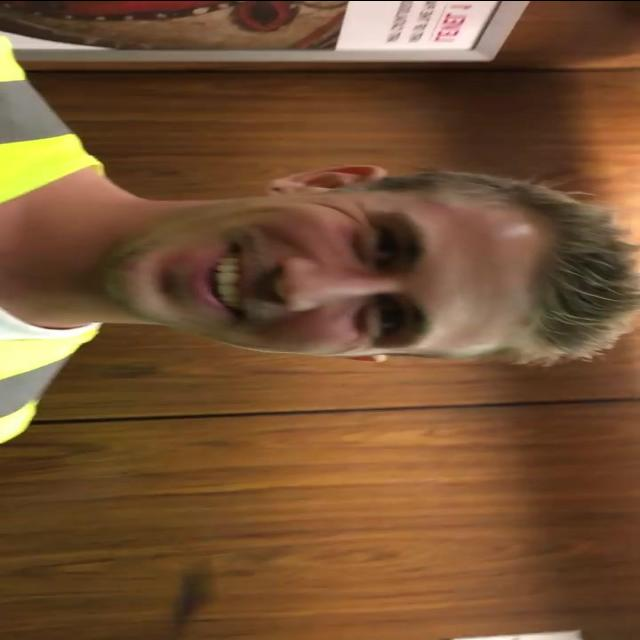jacket: (0, 33, 144, 458)
